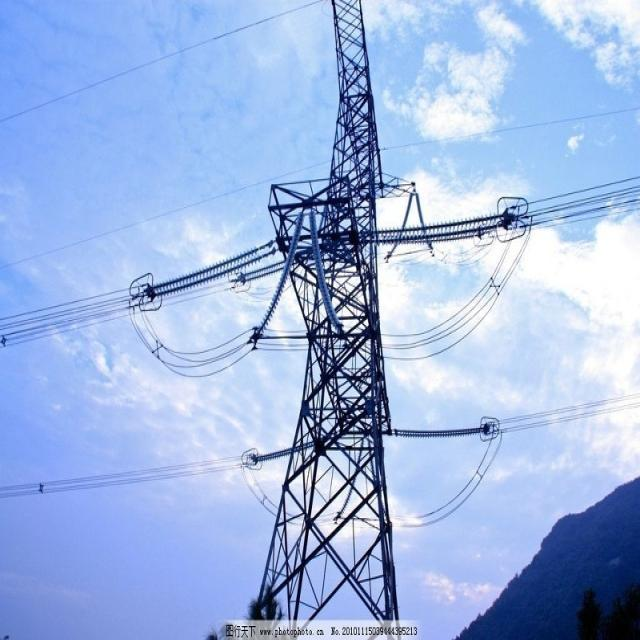non-critical vegetation: (223, 9, 432, 618)
